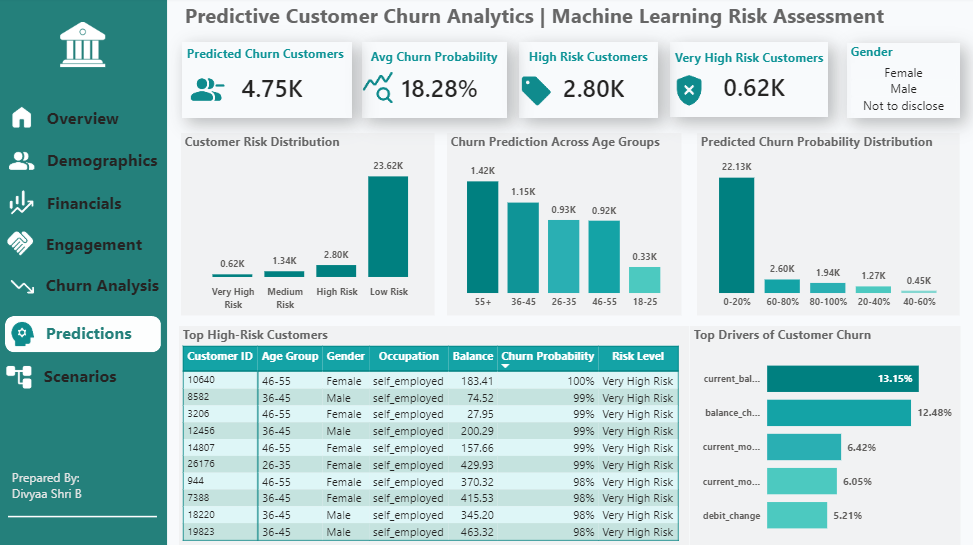

This screenshot's page, from the dashboard's own definition file:
{"tool":"powerbi","page":{"name":"Predictions","canvas":[1280,720],"ordinal":5},"visuals":[{"type":"shape","box":[0,0,220.3,720],"z":0},{"type":"textbox","box":[57.3,139.1,147.3,37.6],"z":1000},{"type":"textbox","box":[57.2,194.1,163.5,43.9],"z":2000},{"type":"textbox","box":[57.2,249.9,163.5,43.9],"z":3000},{"type":"textbox","box":[56,357,164.2,43.2],"z":4000},{"type":"textbox","box":[53.3,476.6,162.7,46.1],"z":5000},{"type":"shape","box":[7.2,417.6,204.5,47.5],"z":6000},{"type":"textbox","box":[56.2,420.5,162.7,41.8],"z":7000},{"type":"cardVisual","fields":{"Data":["Avg(prediction_results.Churn_Probability)"]},"box":[475.2,58.9,189.8,99.5],"z":8000},{"type":"cardVisual","fields":{"Data":["risk_summary.Very High Risk Customers"]},"box":[878.4,58.9,206.8,98.2],"z":9000},{"type":"textbox","box":[237.9,0,958.3,50.5],"z":10000},{"type":"textbox","box":[473.4,61.7,191.5,33.1],"z":11000},{"type":"textbox","box":[878.4,63,207.4,36],"z":12000},{"type":"image","box":[878.4,98.2,49.7,48.4],"z":13000},{"type":"image","box":[11.5,420.5,37.4,41.8],"z":14000},{"type":"image","box":[7.2,475.2,38.9,44.6],"z":15000},{"type":"textbox","box":[12,612.8,196.7,59.8],"z":16000},{"type":"shape","box":[12,672.6,195.4,14.6],"z":17000},{"type":"image","box":[67.7,33.1,83.5,59],"z":18000},{"type":"image","box":[11.5,357.1,37.4,43.2],"z":19000},{"type":"image","box":[11.5,132.5,36,50.4],"z":20000},{"type":"image","box":[11.5,191.5,36,46.1],"z":21000},{"type":"image","box":[8.6,246.2,38.9,47.5],"z":22000},{"type":"image","box":[473.9,95.6,48.4,48.4],"z":23000},{"type":"cardVisual","fields":{"Data":["Sum(prediction_results.Predicted_Churn)"]},"box":[239,59,221.8,99.4],"z":24000},{"type":"textbox","box":[237.6,57.6,223.2,40.3],"z":25000},{"type":"cardVisual","fields":{"Data":["risk_summary.High Risk Customers"]},"box":[680.7,58.9,182,99.5],"z":26000},{"type":"textbox","box":[681.1,61.5,181.4,34.6],"z":27000},{"type":"image","box":[681.1,99,44.6,47.5],"z":28000},{"type":"image","box":[241.9,97.9,61.9,44.6],"z":29000},{"type":"advancedSlicerVisual","fields":{"Values":["churn_prediction.gender"]},"box":[1110.2,60.5,148.3,97.9],"z":30000},{"type":"columnChart","title":"Predicted Churn Probability Distribution","fields":{"Category":["prediction_results.Probability_Range"],"Y":["CountNonNull(prediction_results.Customer_ID)"]},"box":[913.9,177.5,344.1,239.5],"z":31000},{"type":"clusteredColumnChart","title":"Churn Prediction Across Age Groups","fields":{"Category":["churn_prediction.Age Group"],"Y":["Sum(prediction_results.Predicted_Churn)"]},"box":[586.3,177.5,306.9,239.5],"z":32000},{"type":"columnChart","title":"Customer Risk Distribution","fields":{"Category":["risk_summary.Risk_Level"],"Y":["Sum(risk_summary.Customer_Count)"]},"box":[238.1,177.5,331.7,239.5],"z":33000},{"type":"pivotTable","title":"Top High-Risk Customers","fields":{"Rows":["prediction_results.Customer_ID"],"Values":["Min(churn_prediction.Age Group)","Min(churn_prediction.gender)","Min(churn_prediction.occupation)","Sum(churn_prediction.current_balance)","Sum(prediction_results.Churn_Probability)","Min(risk_summary.Risk_Level)"]},"box":[235.4,430.8,667.5,289],"z":34000},{"type":"barChart","title":"Top Drivers of Customer Churn","fields":{"Category":["feature_importance.Feature"],"Y":["Sum(feature_importance.Importance)"]},"box":[904.3,430.8,353.7,289],"z":35000},{"type":"actionButton","box":[56.2,138.2,154.1,40.3],"z":36000},{"type":"actionButton","box":[57.6,191.5,154.1,40.3],"z":37000},{"type":"actionButton","box":[57.6,252,154.1,40.3],"z":38000},{"type":"actionButton","box":[60.5,360,154.1,40.3],"z":39000},{"type":"actionButton","box":[57.6,476.6,154.1,40.3],"z":40000},{"type":"textbox","box":[56.2,303.8,164.2,38.9],"z":41000},{"type":"image","box":[7.2,301,40.3,43.2],"z":42000},{"type":"actionButton","box":[59,302.4,146.9,40.3],"z":43000}]}

Visuals, with their boxes on the page's 1280x720 design canvas (x1, y1, x2, y2). These are canvas units, not pixel positions in the 973x545 screenshot, which may show the page scaled, cropped or inside an application window:
shape: x1=0 y1=0 x2=220 y2=720
textbox: x1=57 y1=139 x2=205 y2=177
textbox: x1=57 y1=194 x2=221 y2=238
textbox: x1=57 y1=250 x2=221 y2=294
textbox: x1=56 y1=357 x2=220 y2=400
textbox: x1=53 y1=477 x2=216 y2=523
shape: x1=7 y1=418 x2=212 y2=465
textbox: x1=56 y1=420 x2=219 y2=462
cardVisual - Avg(prediction_results.Churn_Probability): x1=475 y1=59 x2=665 y2=158
cardVisual - risk_summary.Very High Risk Customers: x1=878 y1=59 x2=1085 y2=157
textbox: x1=238 y1=0 x2=1196 y2=50
textbox: x1=473 y1=62 x2=665 y2=95
textbox: x1=878 y1=63 x2=1086 y2=99
image: x1=878 y1=98 x2=928 y2=147
image: x1=12 y1=420 x2=49 y2=462
image: x1=7 y1=475 x2=46 y2=520
textbox: x1=12 y1=613 x2=209 y2=673
shape: x1=12 y1=673 x2=207 y2=687
image: x1=68 y1=33 x2=151 y2=92
image: x1=12 y1=357 x2=49 y2=400
image: x1=12 y1=132 x2=48 y2=183
image: x1=12 y1=192 x2=48 y2=238
image: x1=9 y1=246 x2=48 y2=294
image: x1=474 y1=96 x2=522 y2=144
cardVisual - Sum(prediction_results.Predicted_Churn): x1=239 y1=59 x2=461 y2=158
textbox: x1=238 y1=58 x2=461 y2=98
cardVisual - risk_summary.High Risk Customers: x1=681 y1=59 x2=863 y2=158
textbox: x1=681 y1=62 x2=862 y2=96
image: x1=681 y1=99 x2=726 y2=146
image: x1=242 y1=98 x2=304 y2=142
advancedSlicerVisual - churn_prediction.gender: x1=1110 y1=60 x2=1258 y2=158
"Predicted Churn Probability Distribution" columnChart: x1=914 y1=178 x2=1258 y2=417
"Churn Prediction Across Age Groups" clusteredColumnChart: x1=586 y1=178 x2=893 y2=417
"Customer Risk Distribution" columnChart: x1=238 y1=178 x2=570 y2=417
"Top High-Risk Customers" pivotTable: x1=235 y1=431 x2=903 y2=720
"Top Drivers of Customer Churn" barChart: x1=904 y1=431 x2=1258 y2=720
actionButton: x1=56 y1=138 x2=210 y2=178
actionButton: x1=58 y1=192 x2=212 y2=232
actionButton: x1=58 y1=252 x2=212 y2=292
actionButton: x1=60 y1=360 x2=215 y2=400
actionButton: x1=58 y1=477 x2=212 y2=517
textbox: x1=56 y1=304 x2=220 y2=343
image: x1=7 y1=301 x2=48 y2=344
actionButton: x1=59 y1=302 x2=206 y2=343
